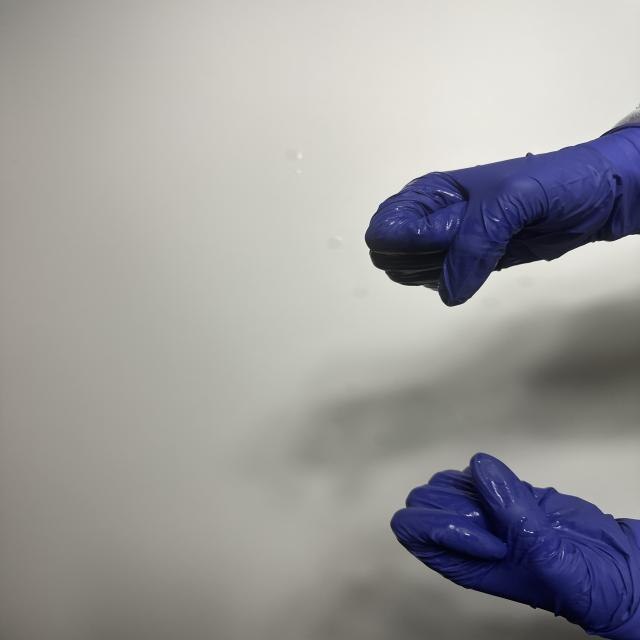gloves_contaminated: (365, 120, 640, 306), (390, 453, 640, 640)
